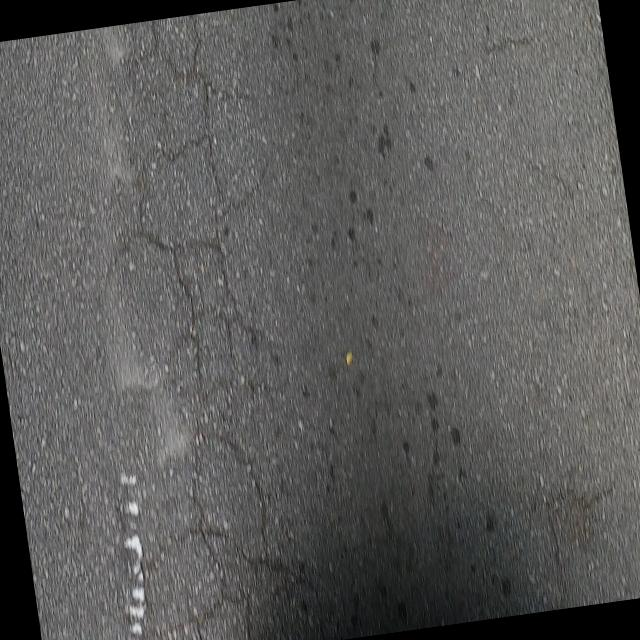Retak-Buaya: (96, 14, 360, 640)
